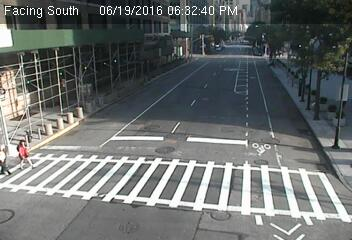neg: (5, 81, 33, 119), (37, 94, 65, 131), (35, 53, 61, 87), (78, 63, 99, 91), (56, 60, 76, 86), (111, 75, 129, 100), (83, 95, 101, 119)
pos: (9, 135, 35, 170)
